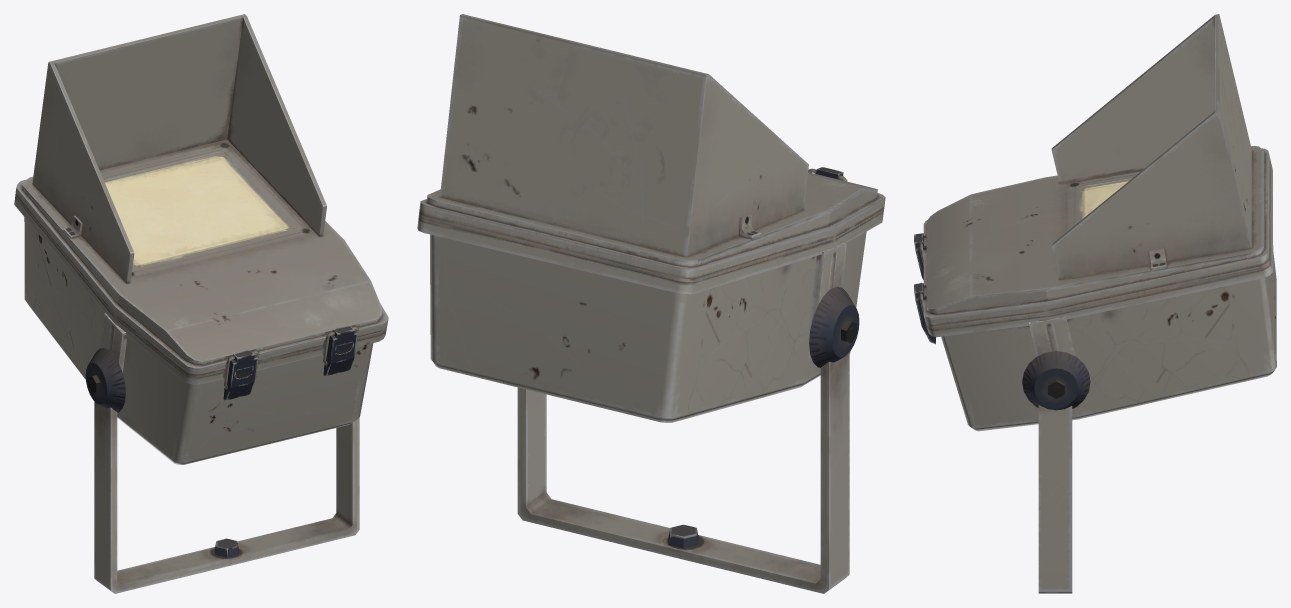
File: Bridgebuilding_light.fbx
3 renders of one model, left to right at view 1: azimuth 30°, elevation 25°; view 2: azimuth 150°, elevation 25°; view 3: azimuth 270°, elevation 25°, orthographic. The views are drawn at different scales.
Parts seen in each view (by area): view 1: LODGroup_1_MainMesh_1_SubMesh_1; view 2: LODGroup_1_MainMesh_1_SubMesh_1; view 3: LODGroup_1_MainMesh_1_SubMesh_1.
Part boxes in pixels (x1,y1,x2,y2): LODGroup_1_MainMesh_1_SubMesh_1: (14, 14, 388, 593); LODGroup_1_MainMesh_1_SubMesh_1: (417, 14, 885, 593); LODGroup_1_MainMesh_1_SubMesh_1: (914, 14, 1276, 593).
Bounding box in the file's own units: 42.27 × 69.37 × 48.4.
